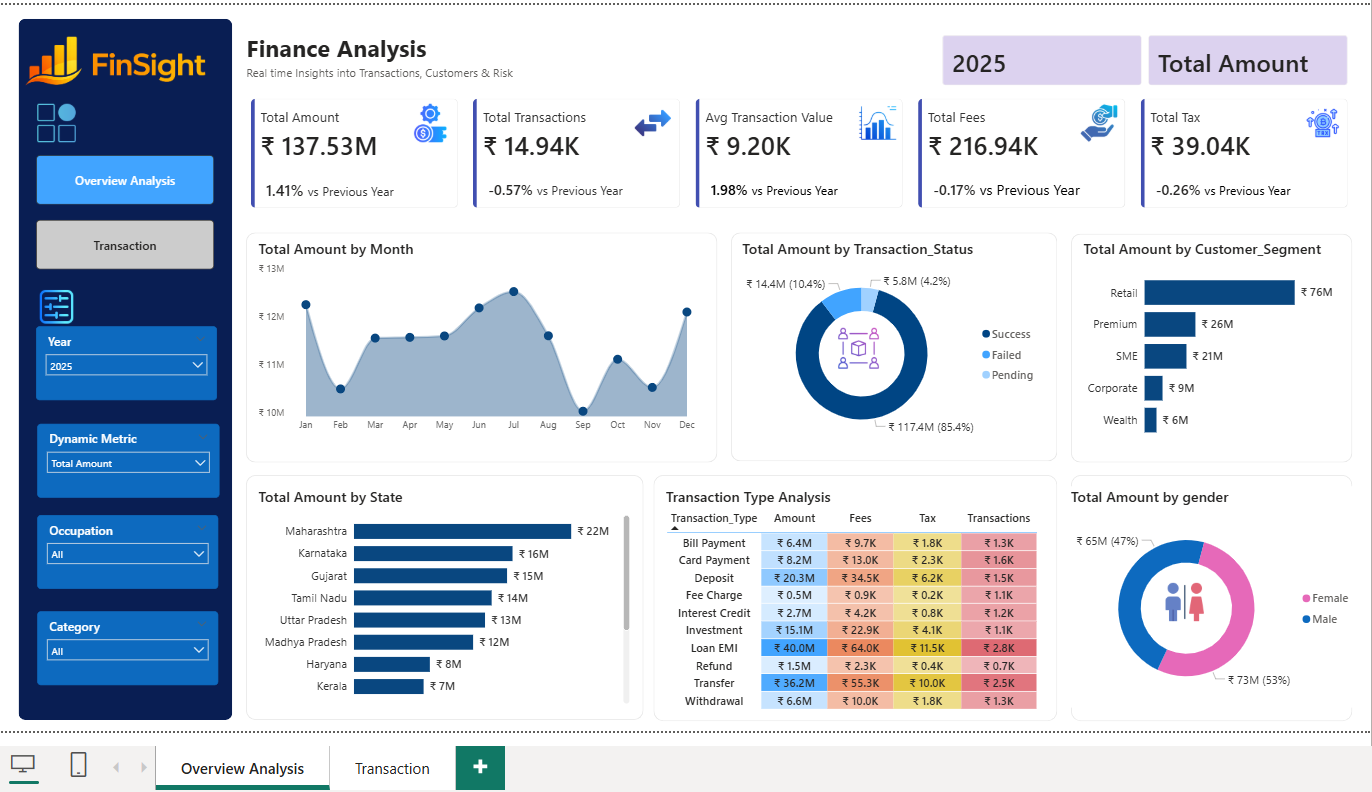

What the dashboard file says about the page in this screenshot:
{"tool":"powerbi","page":{"name":"Overview Analysis","canvas":[1800,950],"ordinal":0},"visuals":[{"type":"shape","box":[29.4,18,279.6,917.3],"z":0},{"type":"image","box":[29.4,18,260,111.2],"z":2000},{"type":"cardVisual","fields":{"Data":["finance_transactions.Dashboard Title"]},"box":[310.3,18,426.5,98.1],"z":3000},{"type":"cardVisual","fields":{"Data":["finance_transactions.Total Amount","finance_transactions.Total Transactions","finance_transactions.Avg Transaction Value","finance_transactions.Total Fees","finance_transactions.Total Tax"]},"box":[327,116.1,1447.1,155.3],"z":4000},{"type":"slicer","fields":{"Values":["Calender Table.Year"]},"box":[52.3,420.2,237.1,96.5],"z":5000},{"type":"image","box":[542.9,129.2,50.7,50.7],"z":6000},{"type":"image","box":[833.9,129.2,50.7,50.7],"z":7000},{"type":"image","box":[1128.3,129.2,50.7,50.7],"z":8000},{"type":"image","box":[1417.7,129.2,50.7,50.7],"z":9000},{"type":"image","box":[1710.4,129.2,50.7,50.7],"z":10000},{"type":"slicer","fields":{"Values":["Dynamic Metric.Dynamic Metric"]},"box":[54,547.8,238.7,96.5],"z":11000},{"type":"shape","box":[327,297.6,616.5,300.9],"z":12000},{"type":"areaChart","fields":{"Y":["finance_transactions.Total Amount"],"Category":["Calender Table.Month"]},"box":[338.5,305.8,588.7,261.6],"z":13000},{"type":"cardVisual","fields":{"Data":["finance_transactions.Selected Year","finance_transactions.Selected Dynamic Measure"]},"box":[1232.9,34.3,541.2,76.9],"z":14000},{"type":"shape","box":[961.5,297.6,426.8,299.2],"z":15000},{"type":"donutChart","fields":{"Y":["finance_transactions.Total Amount"],"Category":["finance_transactions.transaction_status"]},"box":[971.3,305.8,400.6,276.3],"z":16000},{"type":"shape","box":[1406.3,299.2,367.9,299.2],"z":17000},{"type":"barChart","fields":{"Y":["finance_transactions.Total Amount"],"Category":["customers.customer_segment"]},"box":[1417.7,305.8,343.4,276.3],"z":18000},{"type":"shape","box":[327,614.8,520,320.5],"z":19000},{"type":"barChart","fields":{"Y":["finance_transactions.Total Amount"],"Category":["customers.state"]},"box":[338.5,629.5,495.5,289.4],"z":20000},{"type":"shape","box":[860.1,614.8,528.2,322],"z":21000},{"type":"tableEx","title":"Transaction Type Analysis","fields":{"Values":["finance_transactions.transaction_type","finance_transactions.Total Amount","finance_transactions.Total Fees","finance_transactions.Total Tax","finance_transactions.Total Transactions"]},"box":[871.6,629.5,511.8,304.1],"z":22000},{"type":"shape","box":[1406.3,614.8,367.9,322.1],"z":23000},{"type":"donutChart","fields":{"Y":["finance_transactions.Total Amount"],"Category":["customers.gender"]},"box":[1406.3,629.5,372.8,289.4],"z":24000},{"type":"image","box":[1093.9,420.2,68.7,57.2],"z":25000},{"type":"image","box":[1520.7,752.2,68.7,57.2],"z":26000},{"type":"slicer","fields":{"Values":["customers.occupation"]},"box":[54,667.2,237.1,96.5],"z":27000},{"type":"slicer","fields":{"Values":["finance_transactions.merchant_category"]},"box":[54,793.1,237.1,96.5],"z":28000},{"type":"pageNavigator","box":[52.3,196.2,233.8,150.4],"z":29000},{"type":"image","box":[54,129.2,50.7,50.7],"z":30000},{"type":"image","box":[54,369.6,50.7,50.7],"z":30001}]}

Visuals, with their boxes on the page's 1800x950 design canvas (x1, y1, x2, y2). These are canvas units, not pixel positions in the 1372x792 screenshot, which may show the page scaled, cropped or inside an application window:
shape: <region>29, 18, 309, 935</region>
image: <region>29, 18, 289, 129</region>
cardVisual - finance_transactions.Dashboard Title: <region>310, 18, 737, 116</region>
cardVisual - finance_transactions.Total Amount x finance_transactions.Total Transactions: <region>327, 116, 1774, 271</region>
slicer - Calender Table.Year: <region>52, 420, 289, 517</region>
image: <region>543, 129, 594, 180</region>
image: <region>834, 129, 885, 180</region>
image: <region>1128, 129, 1179, 180</region>
image: <region>1418, 129, 1468, 180</region>
image: <region>1710, 129, 1761, 180</region>
slicer - Dynamic Metric.Dynamic Metric: <region>54, 548, 293, 644</region>
shape: <region>327, 298, 944, 598</region>
areaChart - finance_transactions.Total Amount x Calender Table.Month: <region>338, 306, 927, 567</region>
cardVisual - finance_transactions.Selected Year x finance_transactions.Selected Dynamic Measure: <region>1233, 34, 1774, 111</region>
shape: <region>962, 298, 1388, 597</region>
donutChart - finance_transactions.Total Amount x finance_transactions.transaction_status: <region>971, 306, 1372, 582</region>
shape: <region>1406, 299, 1774, 598</region>
barChart - finance_transactions.Total Amount x customers.customer_segment: <region>1418, 306, 1761, 582</region>
shape: <region>327, 615, 847, 935</region>
barChart - finance_transactions.Total Amount x customers.state: <region>338, 630, 834, 919</region>
shape: <region>860, 615, 1388, 937</region>
"Transaction Type Analysis" tableEx: <region>872, 630, 1383, 934</region>
shape: <region>1406, 615, 1774, 937</region>
donutChart - finance_transactions.Total Amount x customers.gender: <region>1406, 630, 1779, 919</region>
image: <region>1094, 420, 1163, 477</region>
image: <region>1521, 752, 1589, 809</region>
slicer - customers.occupation: <region>54, 667, 291, 764</region>
slicer - finance_transactions.merchant_category: <region>54, 793, 291, 890</region>
pageNavigator: <region>52, 196, 286, 347</region>
image: <region>54, 129, 105, 180</region>
image: <region>54, 370, 105, 420</region>
